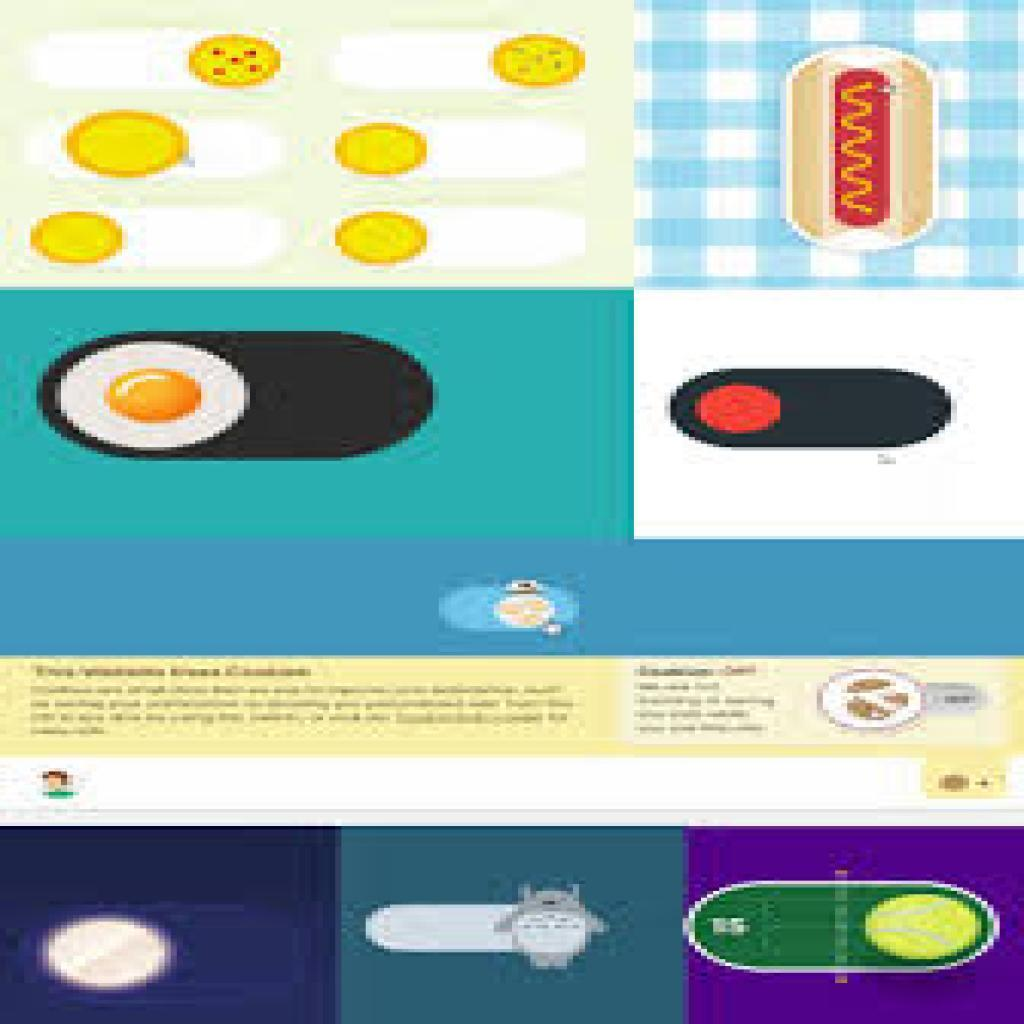switch: (38, 332, 441, 461), (683, 879, 1002, 974), (669, 370, 958, 452), (31, 112, 286, 185), (329, 115, 593, 184), (331, 204, 588, 274), (22, 204, 284, 270), (333, 27, 590, 94), (35, 34, 287, 90)
